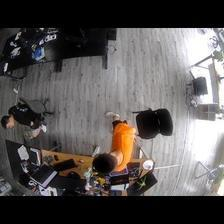normal: (88, 110, 137, 173), (1, 94, 51, 143)
